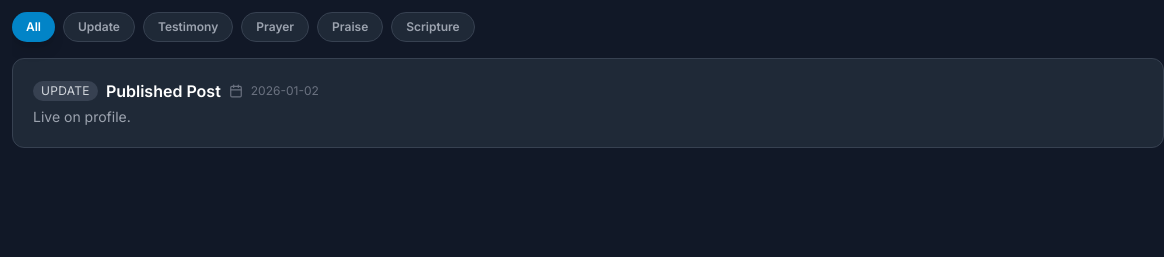
Scenario: Public read-only view (isolated) › shows a type-specific empty message when a filter matches no posts
Click the button "Scripture": click(433, 27) [391,12,475,42]
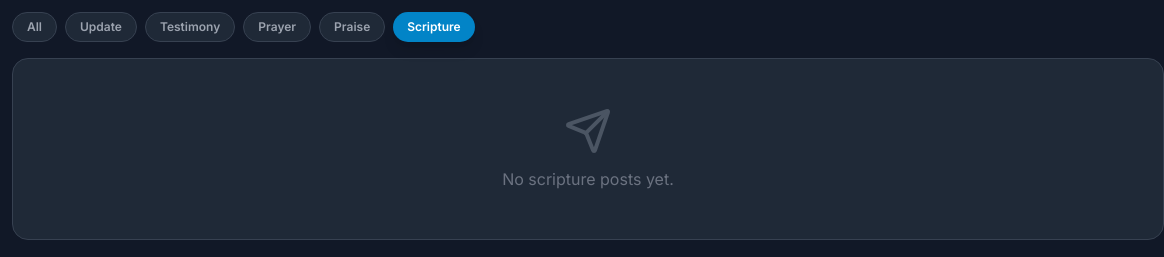
Result: the text "No scripture posts yet." is shown at [502,169,674,189]
